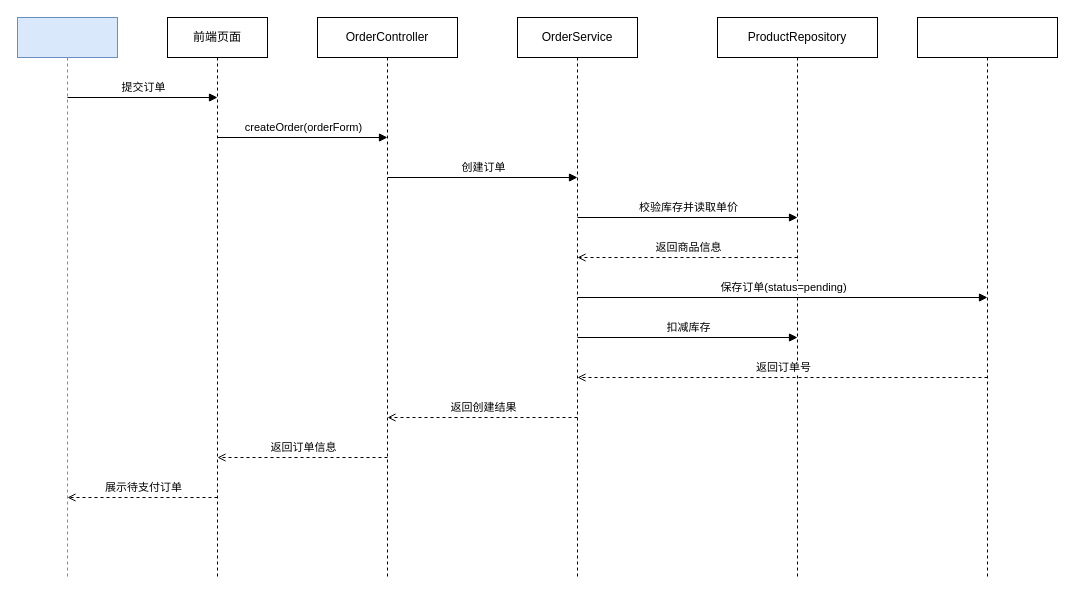
Some shapes in this 1075 by 595 pixel diagram are drawn without their labels. The shapes that lost their labels are listed below. From the top down, each one's box as (x1, y1, x2, y2) in pixels, then its label:
(16, 16, 118, 578): 农户
(916, 16, 1058, 578): OrderRepository
